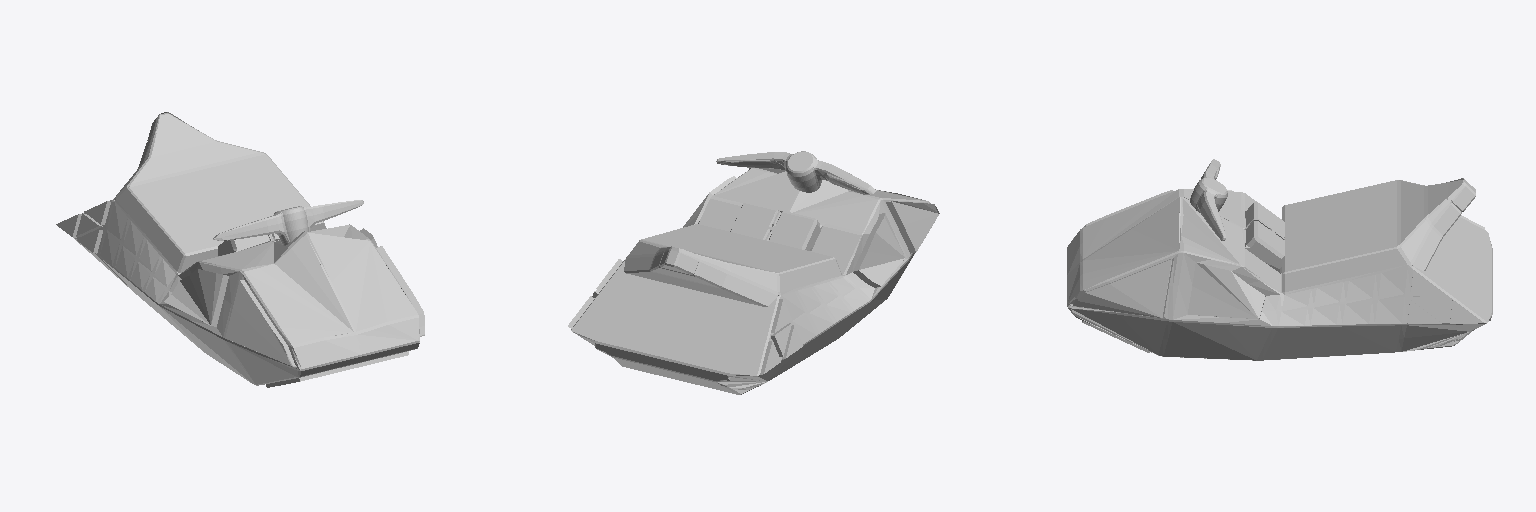
File: jetskie.obj
The picture shows the model from 3 angles: view 1: azimuth 30°, elevation 25°; view 2: azimuth 150°, elevation 25°; view 3: azimuth 270°, elevation 25°; orthographic projection.
Parts seen in each view (by area): view 1: Cube.010, Cube.007, Cube, Cube.009, Cube.008, Cube.004, Cylinder, Cube.005, Cube.006, Cube.001; view 2: Cube, Cube.010, Cube.009, Cube.008, Cylinder, Cube.005, Cube.004, Cube.006; view 3: Cube, Cube.010, Cube.009, Cube.007, Cube.008, Cube.001, Cube.002, Cube.003, Cylinder.
Boxes of the visible parts, x1,y1,x2,y2 form: Cube.010: [116, 112, 309, 253]; Cube.007: [244, 233, 417, 344]; Cube: [75, 112, 424, 370]; Cube.009: [74, 238, 419, 387]; Cube.008: [100, 189, 182, 301]; Cube.004: [225, 280, 295, 365]; Cylinder: [213, 200, 363, 245]; Cube.005: [164, 269, 228, 326]; Cube.006: [56, 201, 110, 253]; Cube.001: [376, 246, 424, 335]; Cube: [571, 168, 930, 390]; Cube.010: [624, 224, 832, 306]; Cube.009: [573, 253, 914, 394]; Cube.008: [779, 259, 868, 343]; Cylinder: [716, 151, 876, 194]; Cube.005: [853, 213, 904, 287]; Cube.004: [886, 201, 939, 253]; Cube.006: [760, 299, 802, 374]; Cube: [1067, 179, 1492, 345]; Cube.010: [1276, 178, 1475, 271]; Cube.009: [1068, 308, 1491, 360]; Cube.007: [1083, 189, 1180, 288]; Cube.008: [1279, 249, 1407, 325]; Cube.001: [1070, 258, 1173, 317]; Cube.002: [1188, 263, 1265, 318]; Cube.003: [1407, 270, 1483, 323]; Cylinder: [1190, 159, 1227, 240].
Size of the model in its own units: 2.68 by 1.89 by 4.81.